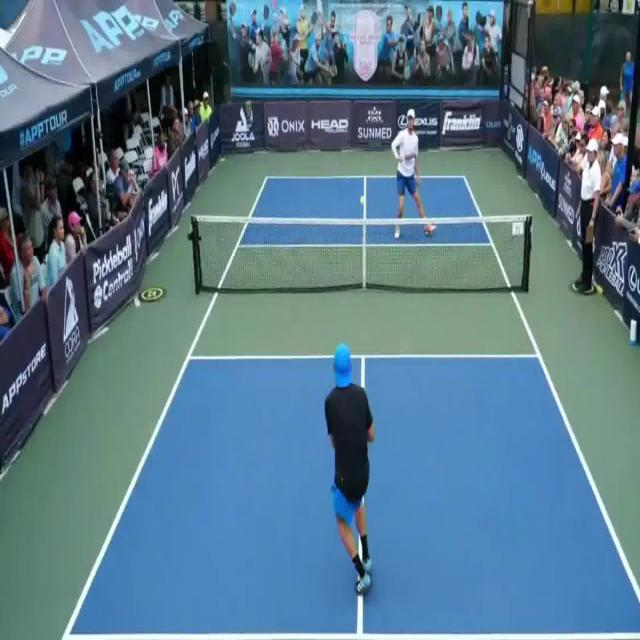ball: (359, 196, 365, 204)
